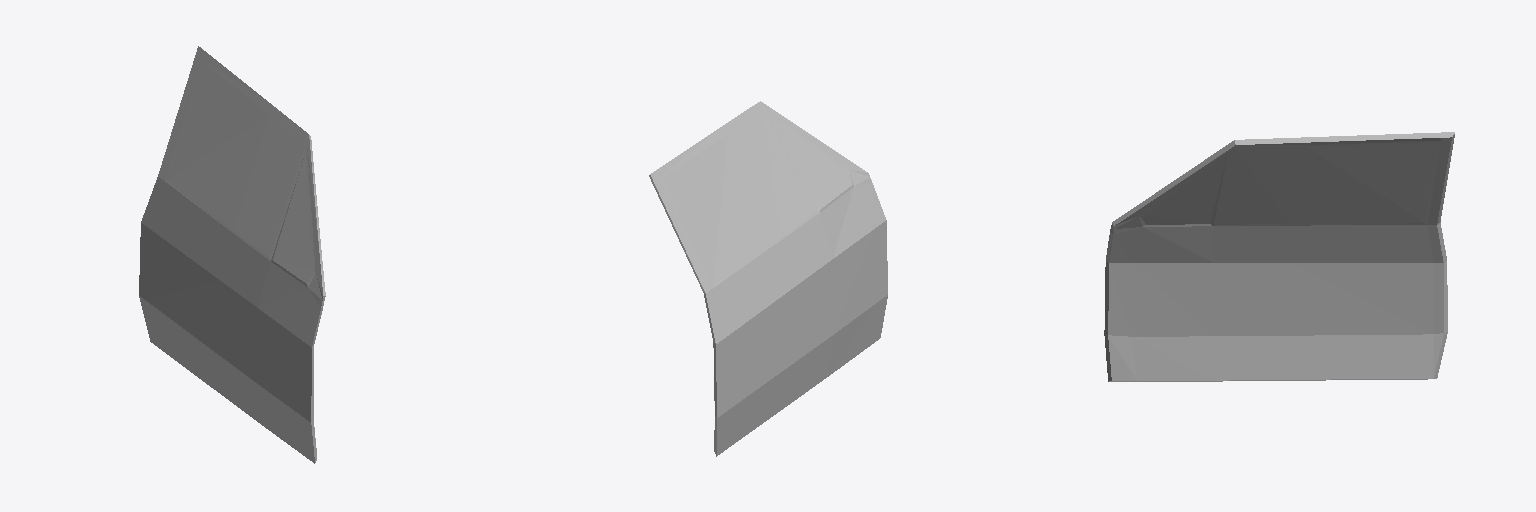
The model's file is cricket_door_FR.obj.
3 renders of one model, left to right at view 1: azimuth 30°, elevation 25°; view 2: azimuth 150°, elevation 25°; view 3: azimuth 270°, elevation 25°, orthographic.
Visible parts, largest first — view 1: Door_FR; view 2: Door_FR; view 3: Door_FR.
Boxes of the visible parts, x1,y1,x2,y2 form: Door_FR: [139, 46, 325, 463]; Door_FR: [649, 101, 887, 456]; Door_FR: [1104, 132, 1454, 381].
Size of the model in its own units: 0.2591 by 1.04 by 1.19.